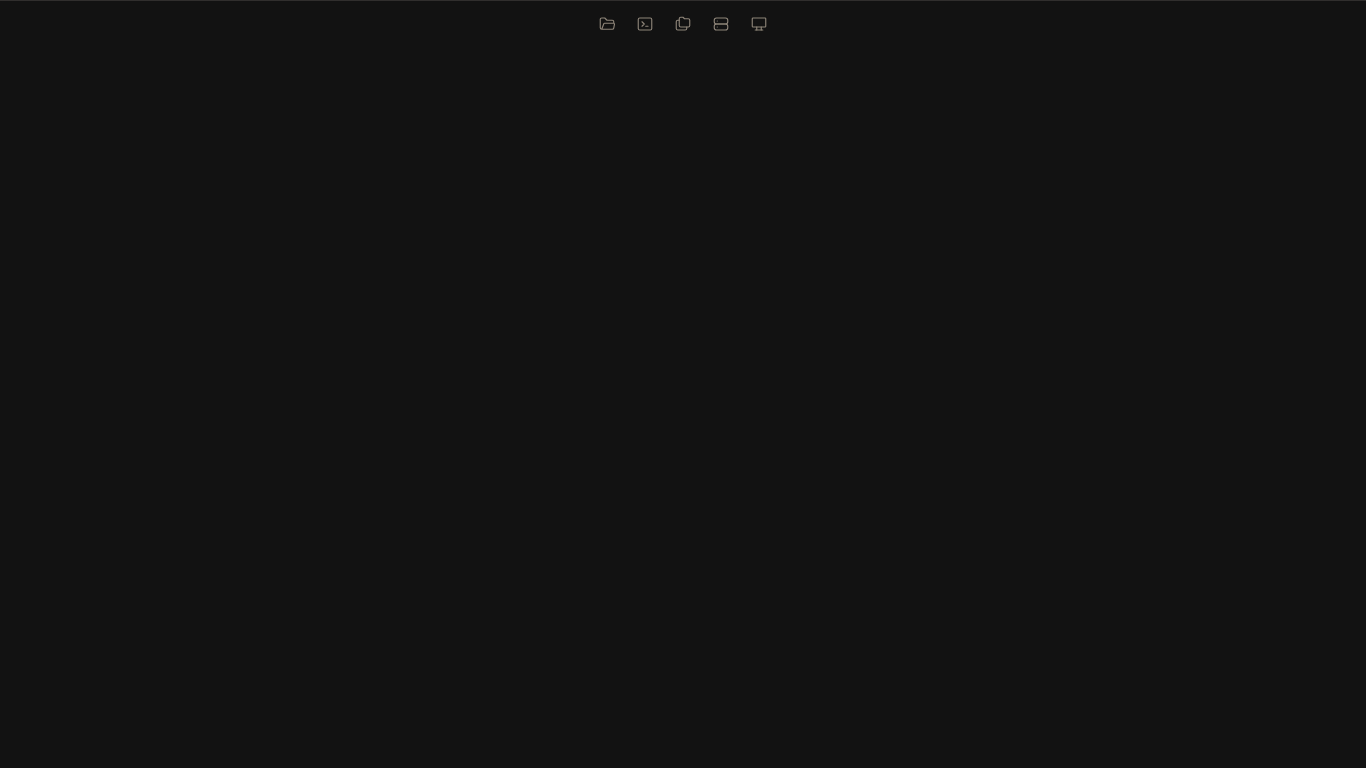
Test: UtilityFooter › repository accent dot › should use the dark accent base for the dot in dark mode
The image size is (1366, 768).
// opening the repository picker
Click the button named "Repositories".
click(683, 24)  # box x1=666 y1=7 x2=700 y2=41
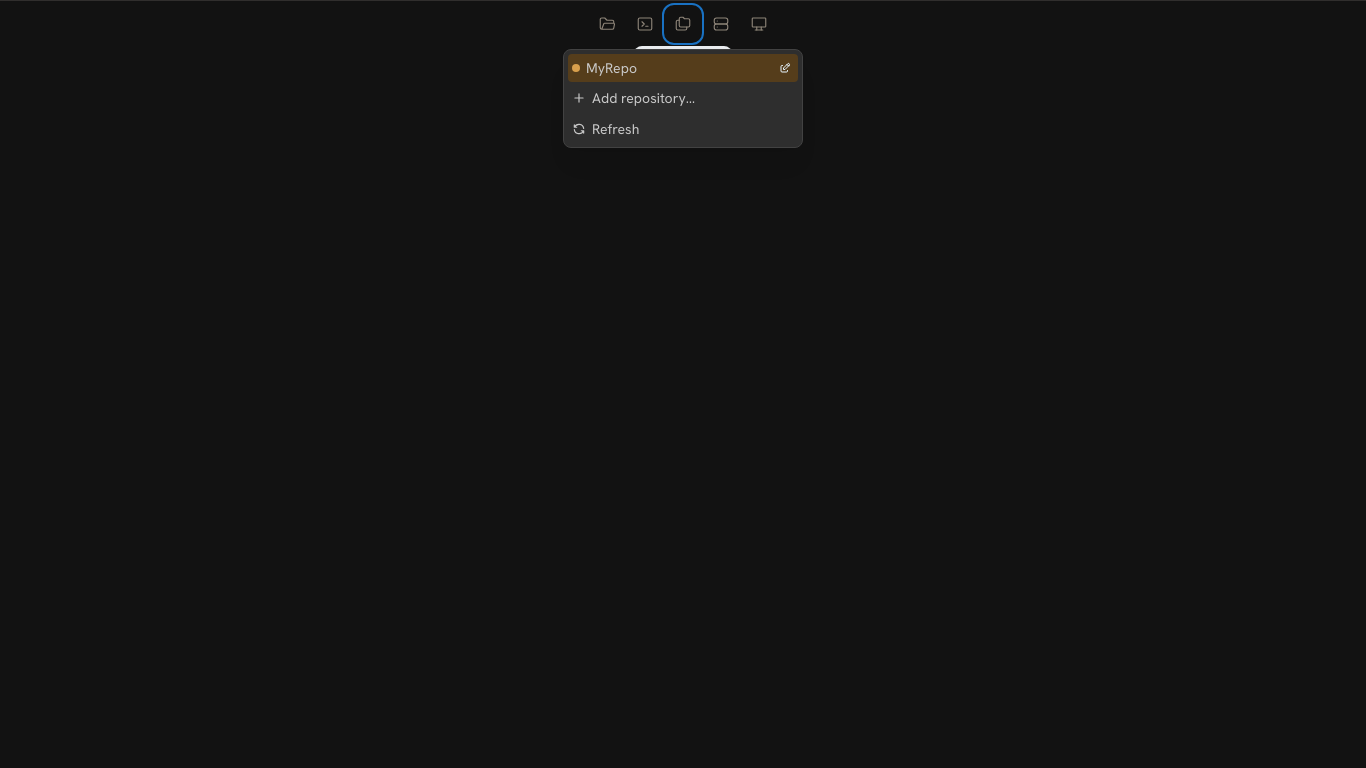
Now the text "MyRepo" is shown, box x1=586 y1=58 x2=637 y2=78
